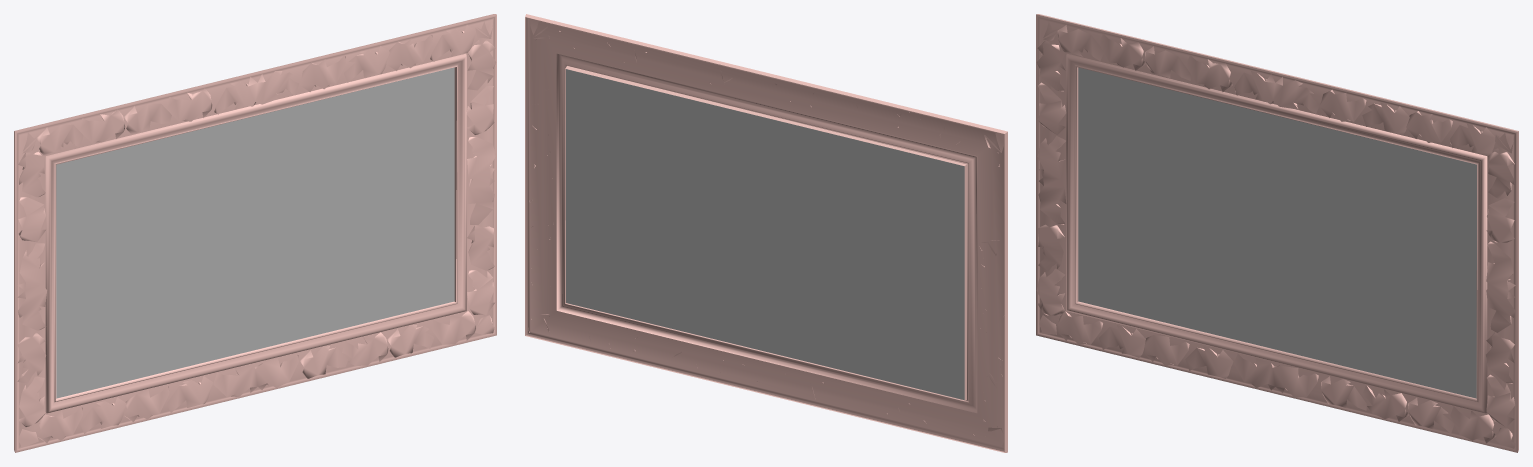
The model's file is model_painting.fbx.
3 views of the same model, side by side, from view 1: azimuth 30°, elevation 25°; view 2: azimuth 150°, elevation 25°; view 3: azimuth 330°, elevation 25° (orthographic).
Visible parts, largest first — view 1: mesh_paintingArt, mesh_paintingFrame; view 2: mesh_paintingArt, mesh_paintingFrame; view 3: mesh_paintingArt, mesh_paintingFrame.
Part boxes in pixels (x1,y1,x2,y2): mesh_paintingArt: (56,67,454,398); mesh_paintingFrame: (14,14,496,452); mesh_paintingArt: (566,69,964,399); mesh_paintingFrame: (525,14,1007,452); mesh_paintingArt: (1078,67,1476,398); mesh_paintingFrame: (1036,14,1518,452).
Bounding box in the file's own units: 316 × 201 × 4.78.
